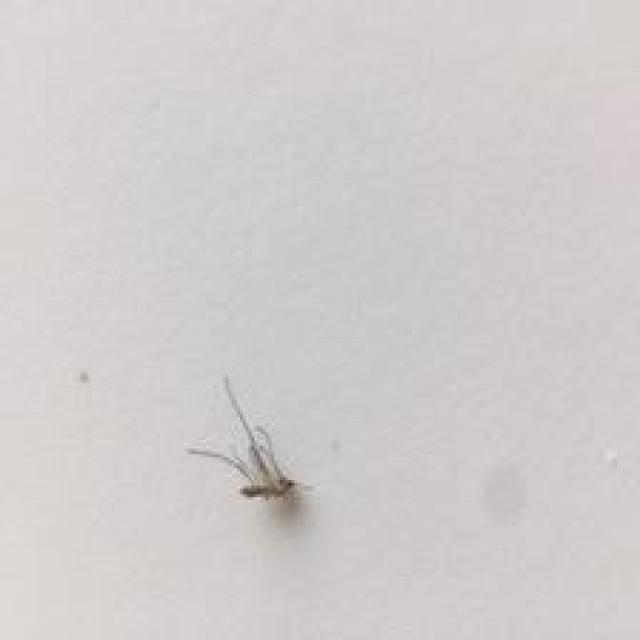Culex: (186, 373, 314, 507)
